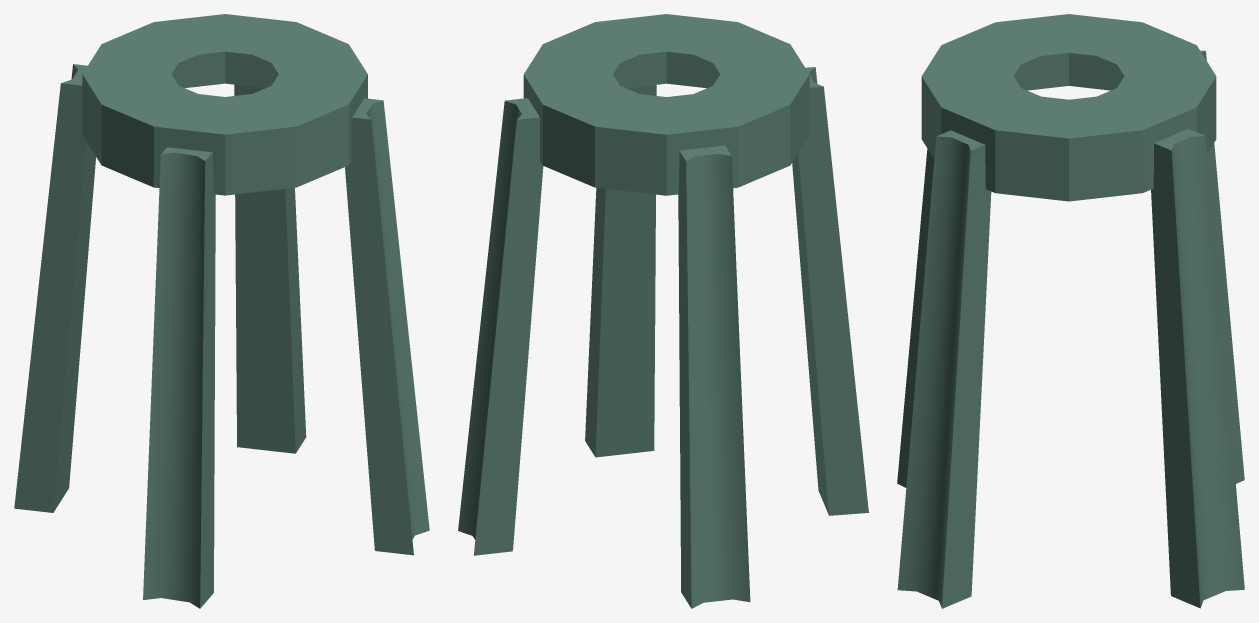
Rendered from monoblock_chair.fbx.
3 views of the same model, side by side, from view 1: azimuth 30°, elevation 25°; view 2: azimuth 150°, elevation 25°; view 3: azimuth 270°, elevation 25° (orthographic). The views are drawn at different scales.
Parts seen in each view (by area): view 1: pCylinder2; view 2: pCylinder2; view 3: pCylinder2.
Part boxes in pixels (box(x1,y1,x2,y2)): pCylinder2: box(14, 14, 429, 608); pCylinder2: box(458, 14, 868, 608); pCylinder2: box(897, 14, 1244, 608).
Bounding box in the file's own units: 2.14 × 3.14 × 2.14.
